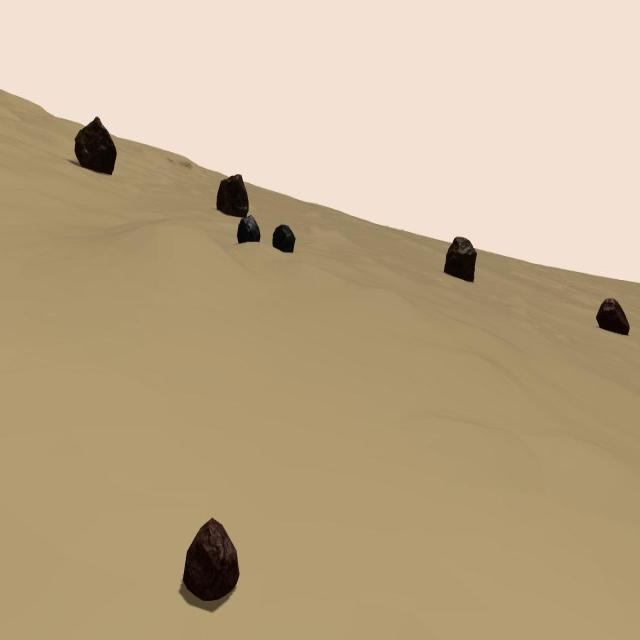rock: (183, 517, 239, 600), (74, 117, 117, 174), (444, 235, 477, 283), (217, 174, 248, 218), (596, 297, 630, 336), (238, 216, 260, 244), (273, 225, 295, 252)
